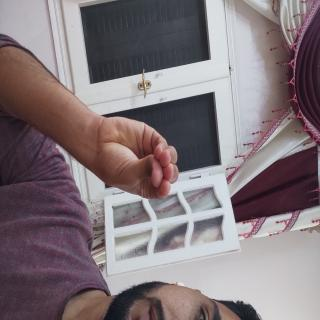HA: (82, 180, 161, 304)
